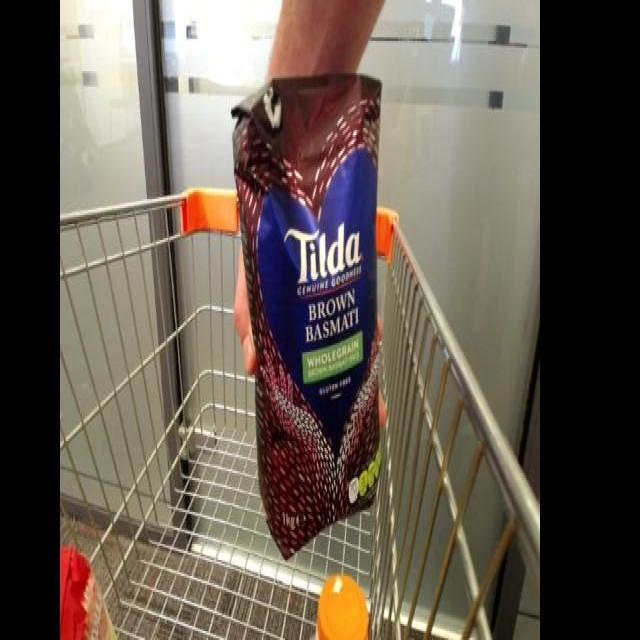Tida: (230, 68, 402, 562)
